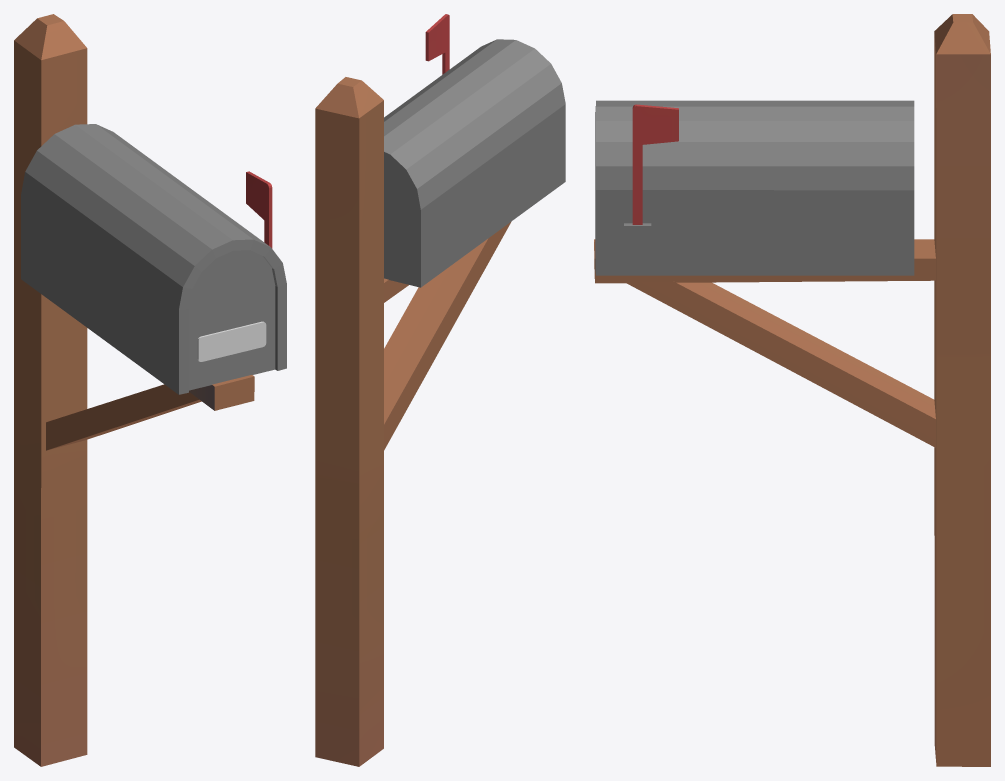
Rendered from mailbox.glb.
3 renders of one model, left to right at view 1: azimuth 30°, elevation 25°; view 2: azimuth 150°, elevation 25°; view 3: azimuth 270°, elevation 25°, orthographic. The views are drawn at different scales.
Parts seen in each view (by area): view 1: Mailbox; view 2: Mailbox; view 3: Mailbox.
Boxes of the visible parts, x1,y1,x2,y2 form: Mailbox: [14, 14, 286, 766]; Mailbox: [315, 14, 565, 766]; Mailbox: [594, 14, 990, 766].
Bounding box in the file's own units: 0.1947 × 1.2 × 0.5856.
Materials: 1 (1 with a texture image).
